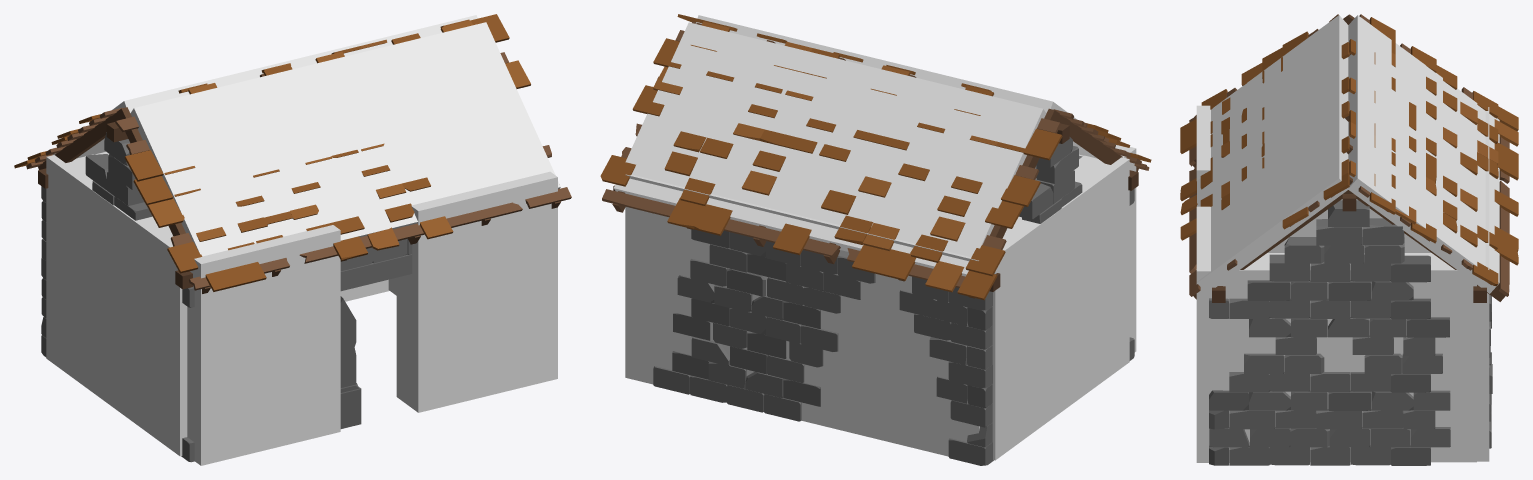
Rendered from stone_house_broken_2.glb.
The picture shows the model from 3 angles, left to right: view 1: azimuth 30°, elevation 25°; view 2: azimuth 150°, elevation 25°; view 3: azimuth 270°, elevation 25°; orthographic projection. The views are drawn at different scales.
Visible parts, largest first — view 1: Cube.005, Cube.004, Cube.003, Cube, House_02_LOD0, Cube.006, Cube.002; view 2: House_02_LOD0, Cube.006, Cube.002, Cube, Cube.005, Cube.003; view 3: House_02_LOD0, Cube.005, Cube.006, Cube.001, Cube.004, Cube.002, Cube.003, Cube.
Boxes of the visible parts, x1,y1,x2,y2 form: Cube.005: [130, 22, 560, 256]; Cube.004: [396, 171, 557, 412]; Cube.003: [187, 225, 340, 465]; Cube: [46, 154, 187, 456]; House_02_LOD0: [14, 14, 571, 462]; Cube.006: [76, 15, 477, 158]; Cube.002: [53, 151, 389, 301]; House_02_LOD0: [600, 14, 1151, 465]; Cube.006: [614, 22, 1046, 276]; Cube.002: [625, 174, 979, 456]; Cube: [992, 155, 1129, 460]; Cube.005: [695, 15, 1115, 158]; Cube.003: [1035, 145, 1136, 352]; House_02_LOD0: [1180, 14, 1518, 465]; Cube.005: [1197, 15, 1348, 293]; Cube.006: [1348, 15, 1499, 293]; Cube.001: [1223, 253, 1476, 462]; Cube.004: [1196, 206, 1229, 462]; Cube.002: [1477, 107, 1489, 461]; Cube.003: [1196, 105, 1210, 180]; Cube: [1267, 199, 1431, 252].
Bounding box in the file's own units: 6.91 × 5.06 × 5.4.
1 material, 1 textured.
